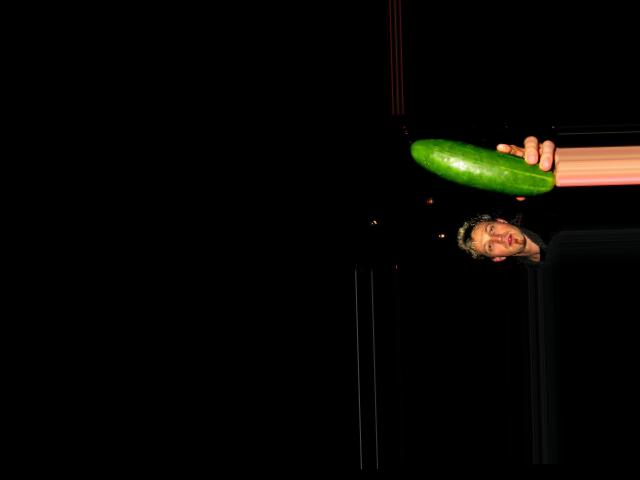cucumber: (410, 134, 554, 197)
